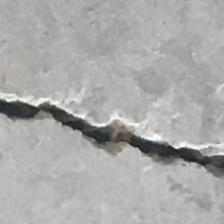Crack: (0, 88, 224, 198)
